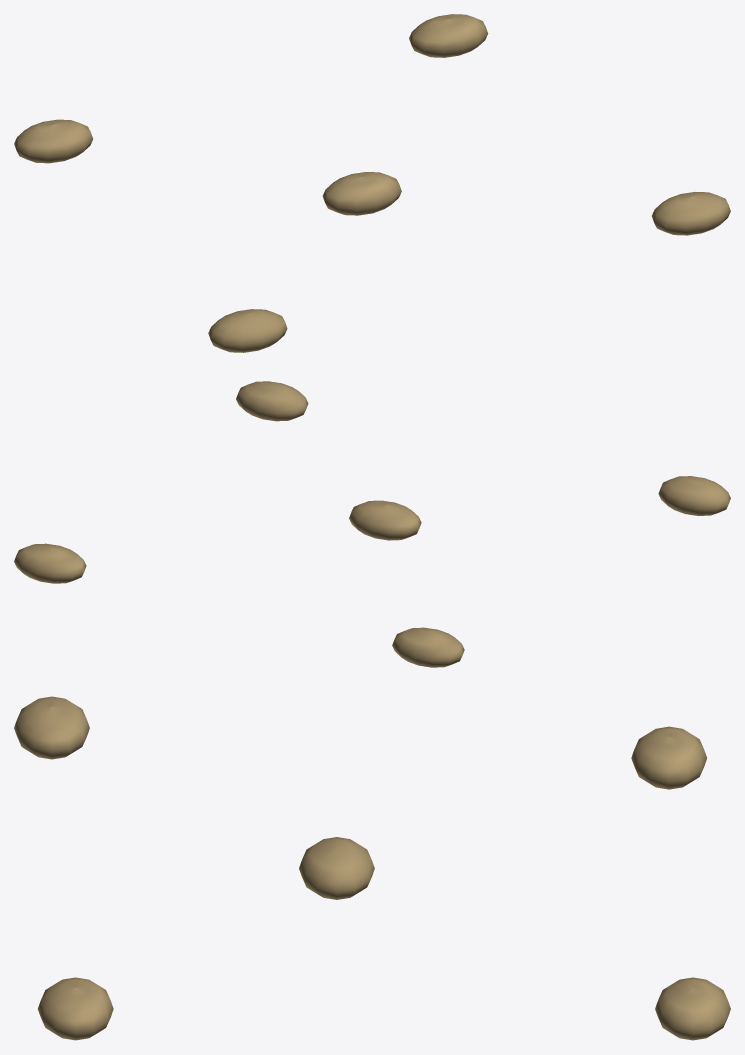
File: tomato_seed.glb
The picture shows the model from 3 angles, top to bottom: view 1: azimuth 30°, elevation 25°; view 2: azimuth 150°, elevation 25°; view 3: azimuth 270°, elevation 25°; orthographic projection. The views are drawn at different scales.
Parts seen in each view (by area): view 1: seeds.001; view 2: seeds.001; view 3: seeds.001.
Part boxes in pixels (x1,y1,x2,y2): seeds.001: (14,14,730,352); seeds.001: (14,381,730,667); seeds.001: (14,696,730,1040).
Size of the model in its own units: 0.326 by 0.02 by 0.302.
